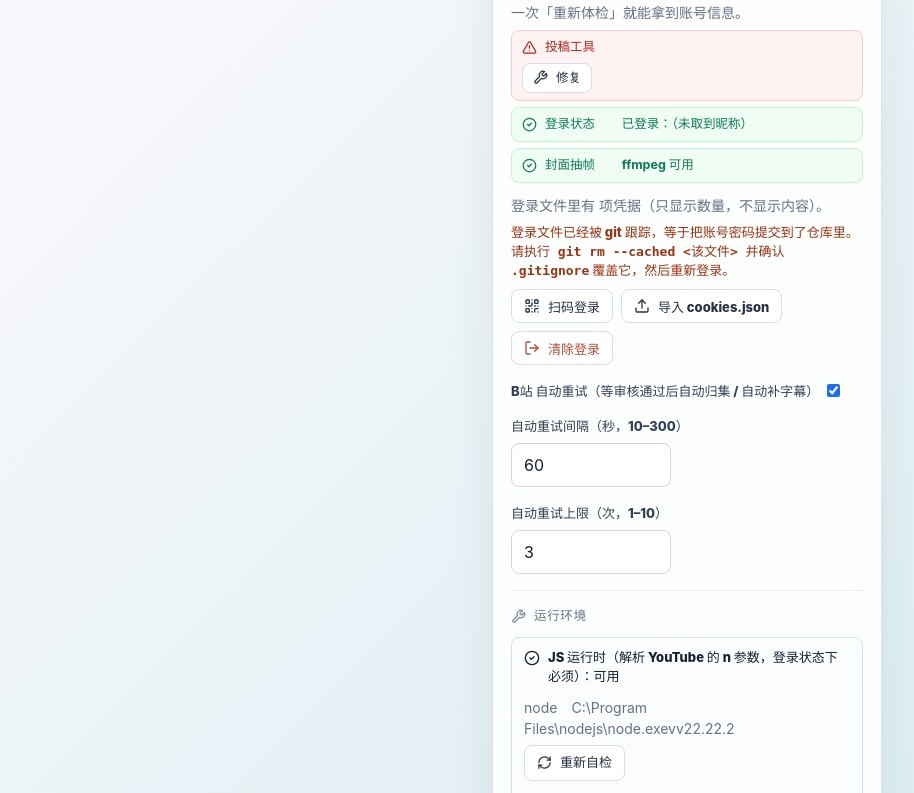
Test case: App · 设置面板的功能分区 › 分区不改变交互：「B站 上传」里关掉自动重试，同组两个数字立刻改不动
(page scrolled)
Click the checkbox labelled "B站 自动重试（等审核通过后自动归集 / 自动补字幕）". click: (834, 391)
box: [827, 384, 840, 397]
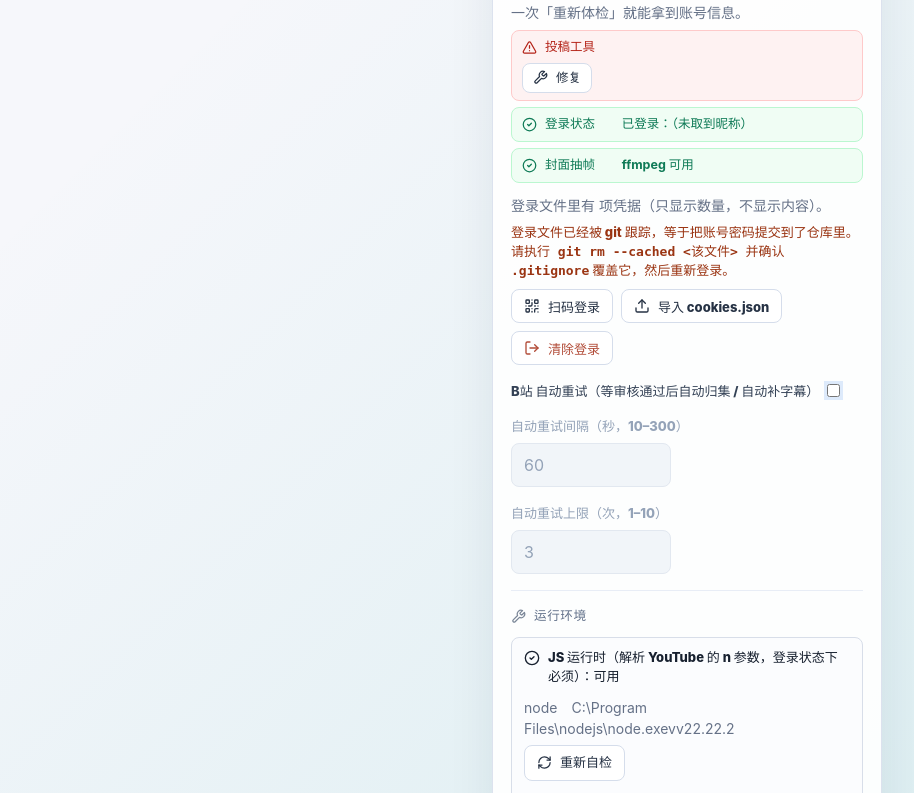
Now the checkbox labelled "B站 自动重试（等审核通过后自动归集 / 自动补字幕）" is not checked, box [827, 384, 840, 397]
Now the number field labelled "自动重试间隔（秒，10–300）" is disabled, box [511, 443, 671, 487]
Now the number field labelled "自动重试上限（次，1–10）" is disabled, box [511, 530, 671, 574]
